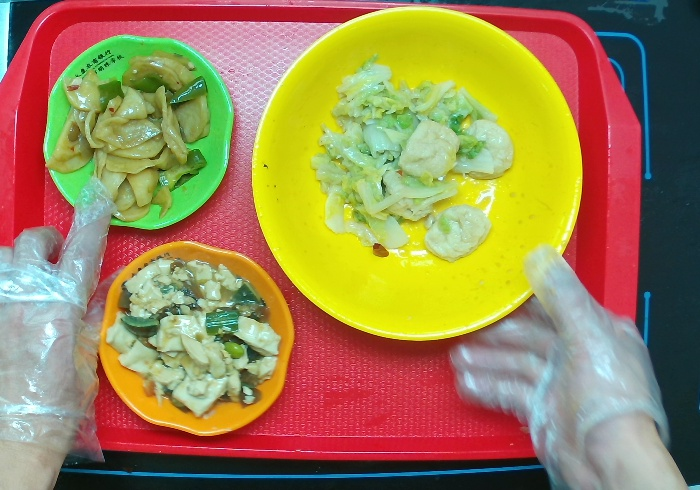YKMZ-Huang_Se_Tang_Wan: (248, 6, 586, 343)
YKMZ-Ju_Se_Ao_Bian_Wan: (99, 239, 297, 441)
YKMZ-Lv_Se_Ao_Bian_Wan: (42, 33, 235, 230)
